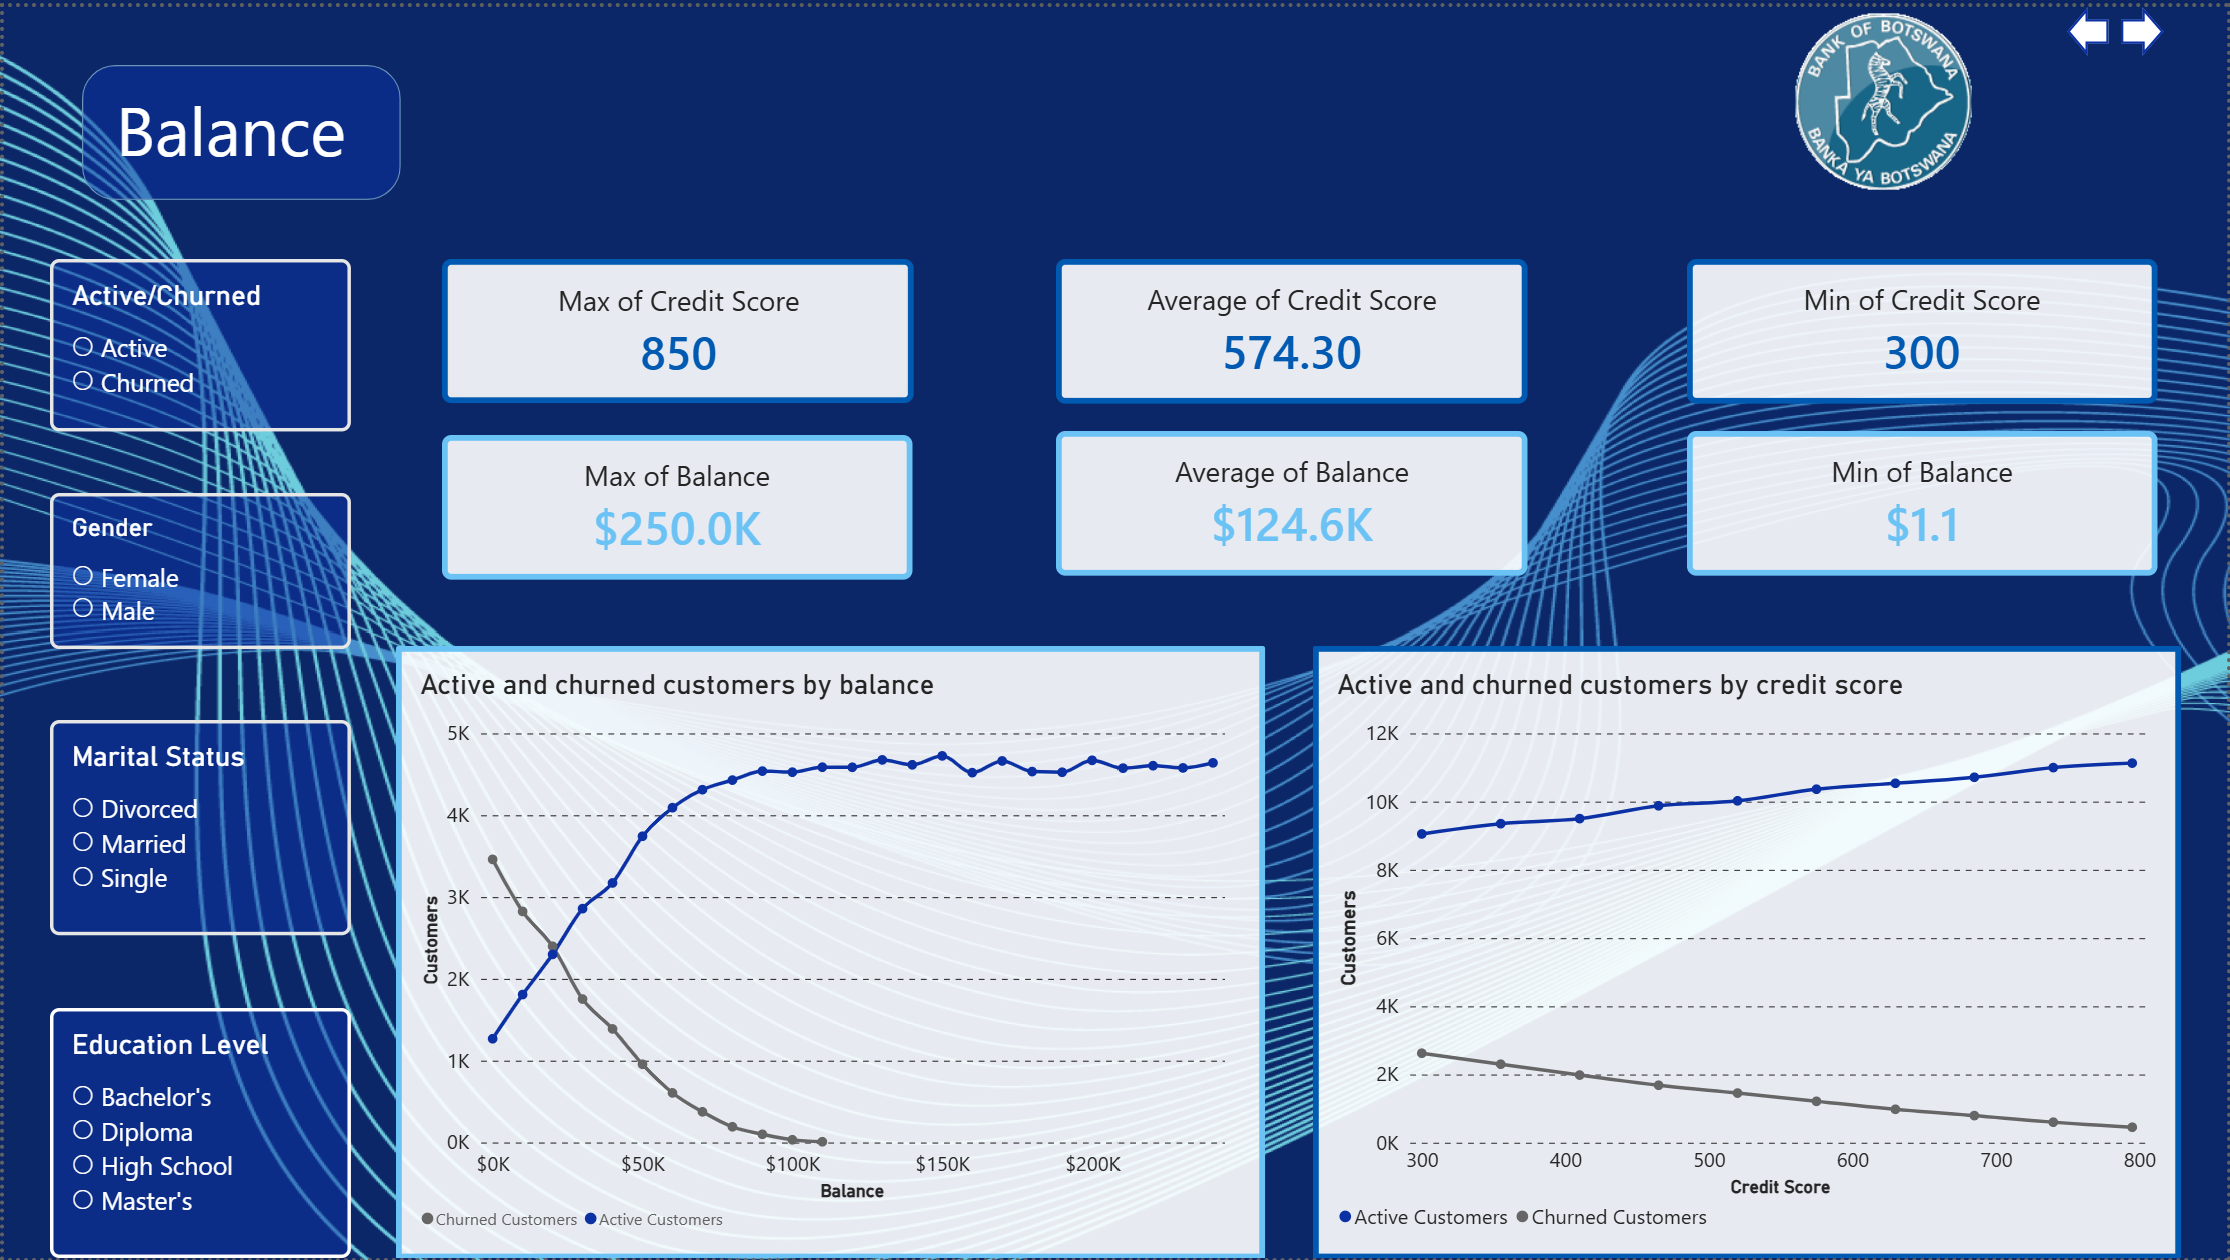

The page's visual inventory and layout, read from the dashboard file:
{"tool":"powerbi","page":{"name":"Balance","canvas":[1920,1080],"ordinal":2},"visuals":[{"type":"shape","box":[67.4,49.6,275.4,116.7],"z":0},{"type":"textbox","box":[97.5,65,222.5,85],"z":1000},{"type":"cardVisual","fields":{"Data":["Avg(Bank Info. Balance )"]},"box":[908.2,367.1,406.7,125],"z":2000},{"type":"cardVisual","fields":{"Data":["Max(Bank Info. Balance )"]},"box":[378.5,369,406.7,125],"z":3000},{"type":"cardVisual","fields":{"Data":["Min(Bank Info. Balance )"]},"box":[1453.3,367.1,406.7,125],"z":4000},{"type":"lineChart","title":"Active and churned customers by balance","fields":{"Category":["Bank Info.New Balance"],"Y":["All Measures.Churned Customers","All Measures.Active Customers"]},"box":[338.5,550.8,750,530],"z":5000},{"type":"lineChart","title":"Active and churned customers by credit score","fields":{"Category":["Bank Info.Credit Score (bins)"],"Y":["All Measures.Active Customers","All Measures.Churned Customers"]},"box":[1130.2,550.8,750,530],"z":6000},{"type":"cardVisual","fields":{"Data":["Avg(Bank Info.Credit Score)"]},"box":[908.2,218,406.7,125],"z":7000},{"type":"cardVisual","fields":{"Data":["Min(Bank Info.Credit Score)"]},"box":[1453.3,217.1,406.7,125],"z":8000},{"type":"listSlicer","fields":{"Values":["Customer Info.Gender"]},"box":[40,420,260,134],"z":9000},{"type":"listSlicer","fields":{"Values":["Customer Info.Marital Status"]},"box":[40,616,260,186],"z":10000},{"type":"listSlicer","fields":{"Values":["Customer Info.Education Level"]},"box":[40.2,863.9,260.1,216.1],"z":11000},{"type":"cardVisual","fields":{"Data":["Max(Bank Info.Credit Score)"]},"box":[378.5,218,407.3,124.3],"z":12000},{"type":"listSlicer","title":"Active/Churned","fields":{"Values":["Bank Info.Churn Flag"]},"box":[40,218,260.1,149.2],"z":13000},{"type":"image","box":[1521.7,0,202.7,164.5],"z":14000},{"type":"shape","box":[1828.8,0,37,42.3],"z":15000},{"type":"shape","box":[1782,0,36,42.3],"z":16000}]}

Visuals, with their boxes in screenshot pixels (x1, y1, x2, y2), scaled from the page's 1920x1080 canvas onto the 2230x1260 screenshot:
shape: x1=78, y1=58, x2=398, y2=194
textbox: x1=113, y1=76, x2=372, y2=175
cardVisual - Avg(Bank Info. Balance ): x1=1055, y1=428, x2=1527, y2=574
cardVisual - Max(Bank Info. Balance ): x1=440, y1=430, x2=912, y2=576
cardVisual - Min(Bank Info. Balance ): x1=1688, y1=428, x2=2160, y2=574
"Active and churned customers by balance" lineChart: x1=393, y1=643, x2=1264, y2=1259
"Active and churned customers by credit score" lineChart: x1=1313, y1=643, x2=2184, y2=1259
cardVisual - Avg(Bank Info.Credit Score): x1=1055, y1=254, x2=1527, y2=400
cardVisual - Min(Bank Info.Credit Score): x1=1688, y1=253, x2=2160, y2=399
listSlicer - Customer Info.Gender: x1=46, y1=490, x2=348, y2=646
listSlicer - Customer Info.Marital Status: x1=46, y1=719, x2=348, y2=936
listSlicer - Customer Info.Education Level: x1=47, y1=1008, x2=349, y2=1259
cardVisual - Max(Bank Info.Credit Score): x1=440, y1=254, x2=913, y2=399
"Active/Churned" listSlicer: x1=46, y1=254, x2=349, y2=428
image: x1=1767, y1=0, x2=2003, y2=192
shape: x1=2124, y1=0, x2=2167, y2=49
shape: x1=2070, y1=0, x2=2112, y2=49
